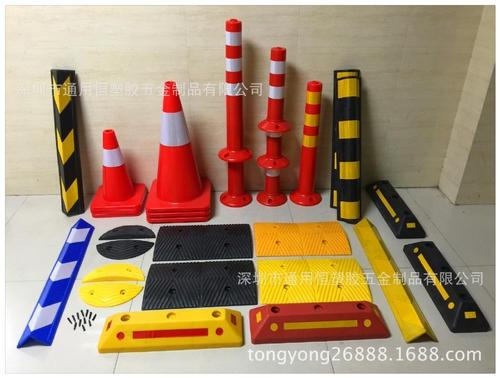cone_barrel: (144, 82, 208, 204), (213, 18, 251, 160), (288, 84, 327, 201), (91, 131, 140, 213)
